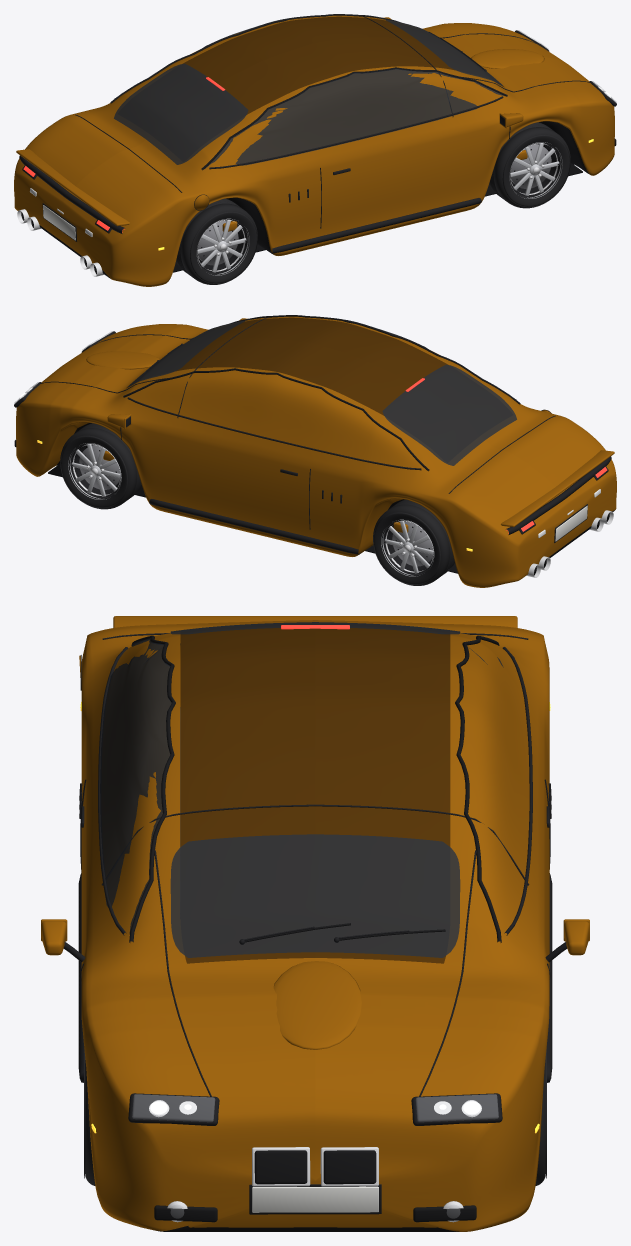
3 views of the same model, one above another, from view 1: azimuth 30°, elevation 25°; view 2: azimuth 150°, elevation 25°; view 3: azimuth 270°, elevation 25° (orthographic). The views are drawn at different scales.
Parts seen in each view (by area): view 1: body, glass_side_R, glass_screen_1, wheel_RR_tyre, wheel_FR_tyre, glass_screen_0, side_skirt, wing_lip, power_dome, tail_housing, seal_R, belt_trim (+6 smaller); view 2: body, glass_screen_1, wheel_RL_tyre, wheel_FL_tyre, glass_screen_0, side_skirt.001, wing_lip, power_dome, seal_L, tail_housing, belt_trim.001, seal_R (+5 smaller); view 3: body, glass_screen_0, glass_side_R, power_dome, plate_front, wing_lip, head_housing.001, head_housing, head_lens.001, head_lens, kidney.001, kidney (+10 smaller).
Boxes of the visible parts, box(x1,y1,x2,y2) form: body: box(14, 15, 614, 286); glass_side_R: box(204, 69, 505, 169); glass_screen_1: box(114, 63, 248, 164); wheel_RR_tyre: box(176, 198, 257, 284); wheel_FR_tyre: box(489, 122, 570, 208); glass_screen_0: box(386, 20, 502, 85); side_skirt: box(270, 198, 481, 253); wing_lip: box(16, 149, 129, 226); power_dome: box(471, 49, 544, 68); tail_housing: box(19, 155, 124, 233); seal_R: box(201, 67, 507, 170); belt_trim: box(209, 96, 503, 169); body: box(16, 316, 616, 587); glass_screen_1: box(382, 364, 516, 465); wheel_RL_tyre: box(373, 499, 454, 585); wheel_FL_tyre: box(60, 423, 141, 509); glass_screen_0: box(128, 321, 244, 386); side_skirt.001: box(149, 499, 360, 554); wing_lip: box(501, 450, 614, 527); power_dome: box(86, 351, 159, 369); seal_L: box(123, 368, 429, 471); tail_housing: box(506, 456, 611, 534); belt_trim.001: box(127, 397, 421, 470); seal_R: box(232, 315, 520, 404); body: box(81, 620, 549, 1231); glass_screen_0: box(170, 834, 460, 957); glass_side_R: box(100, 638, 171, 934); power_dome: box(273, 961, 361, 1049); plate_front: box(252, 1186, 378, 1212); wing_lip: box(113, 616, 517, 627); head_housing.001: box(411, 1093, 502, 1125); head_housing: box(128, 1093, 219, 1125); head_lens.001: box(416, 1094, 498, 1121); head_lens: box(132, 1094, 214, 1121); kidney.001: box(323, 1150, 376, 1184); kidney: box(254, 1150, 307, 1184).
Size of the model in its own units: 4.58 by 1.37 by 2.07.
